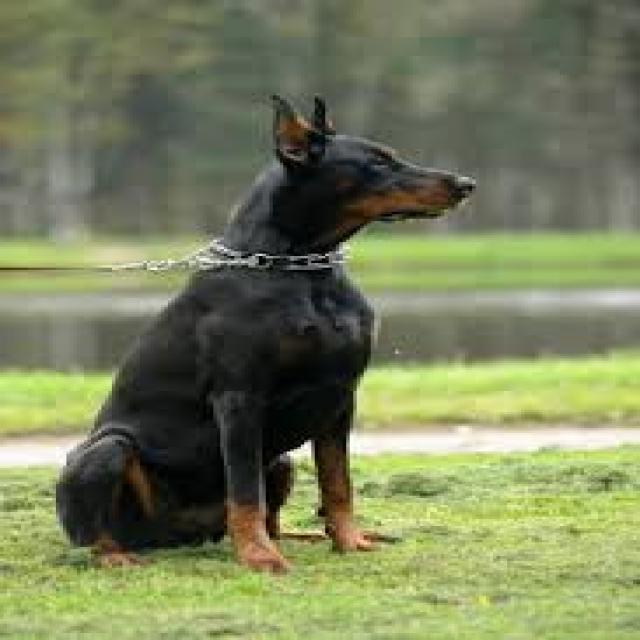Dog: (49, 88, 482, 573)
